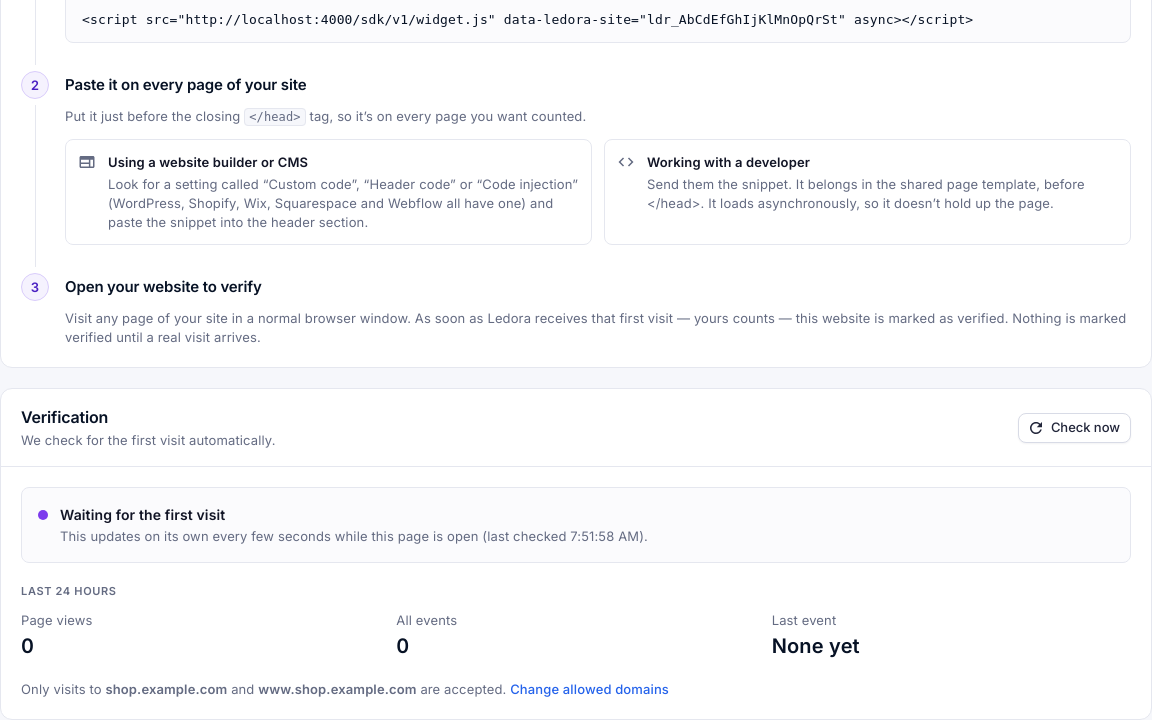
Test: installation verification › "Check now" re-reads the website and its stats
(page scrolled)
Check: the text "Waiting for the first visit" is shown, box top-left (60, 506), bottom-right (225, 523)
Click the button "Check now": [1074, 428] box top-left (1018, 412), bottom-right (1131, 442)
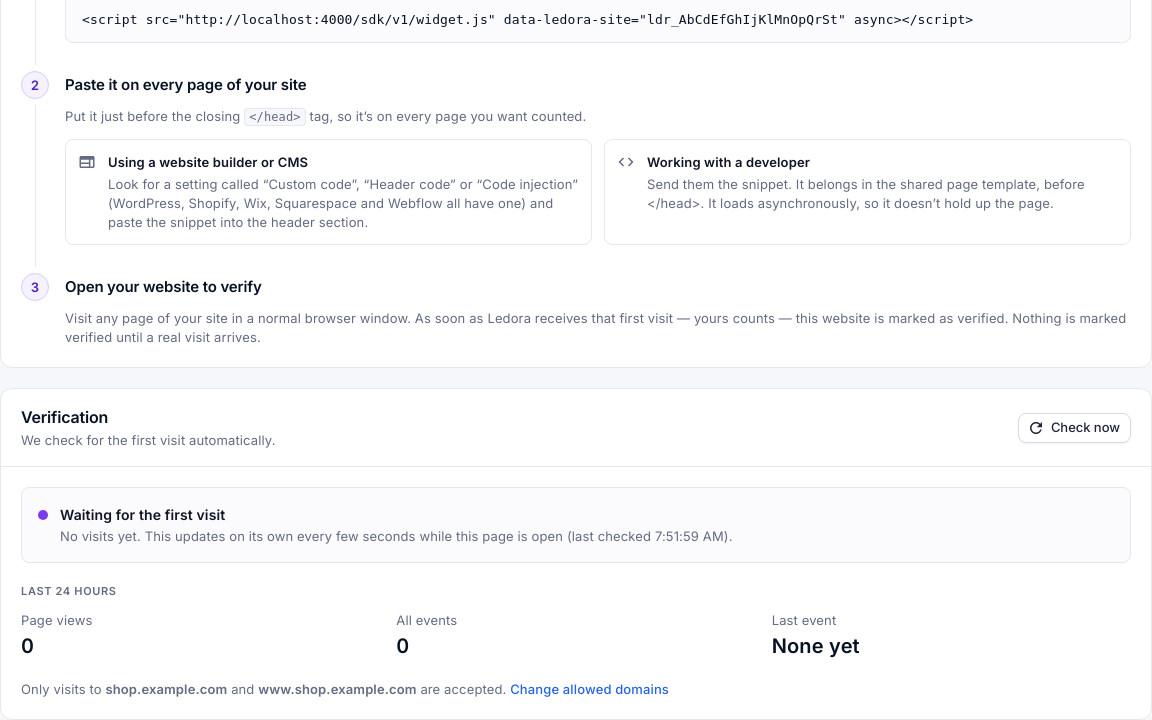
Check: the text "No visits yet." is shown, box top-left (60, 528), bottom-right (145, 544)
